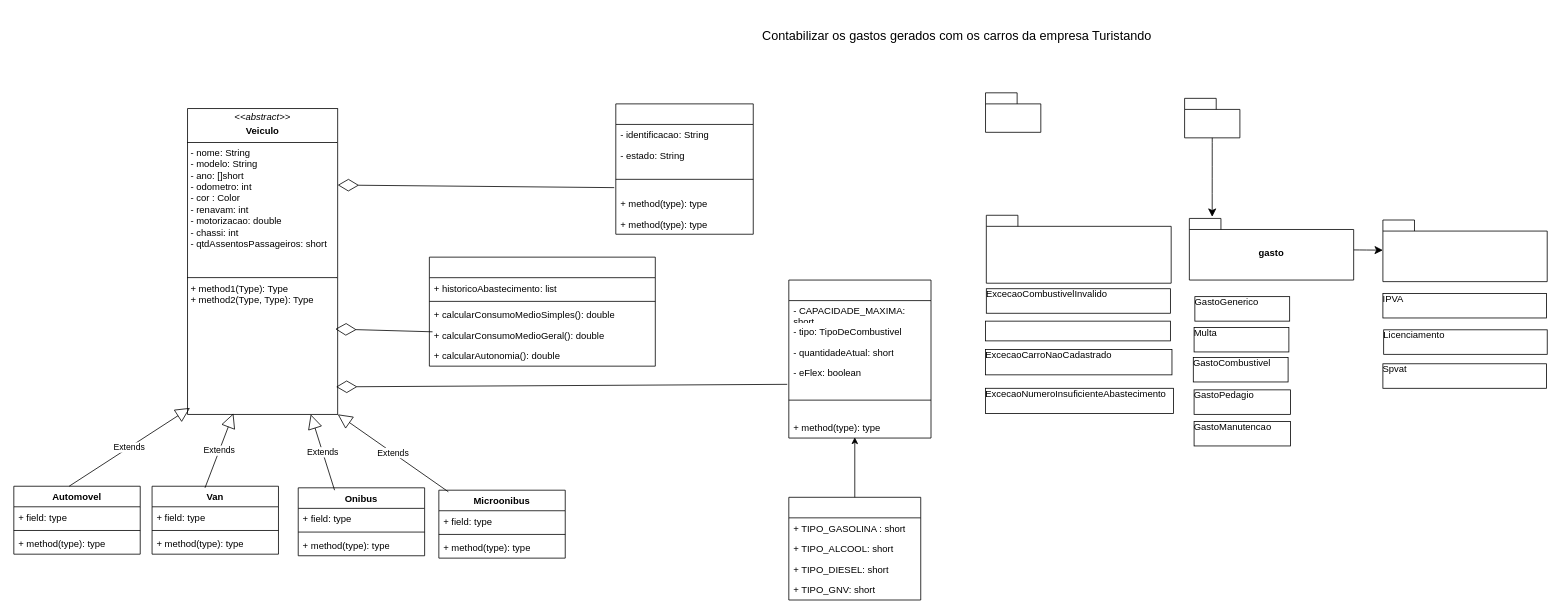
Image size: 1561x615. Some labels were removed from this diagram. The box of each missing label's shape, as (x1, y1, x2, y2) in pixels:
<<enum>>Combustível: (788, 497, 921, 600)
ComputadorDeBordo: (429, 256, 655, 366)
ExcecaoCustoNegativo: (985, 320, 1170, 341)
excecoes: (986, 214, 1171, 283)
imposto: (1382, 219, 1547, 282)
Placa: (615, 103, 753, 234)
relatorio: (1184, 98, 1240, 138)
ReservatorioDeCombustivel: (788, 279, 931, 438)
telas: (985, 92, 1041, 132)
